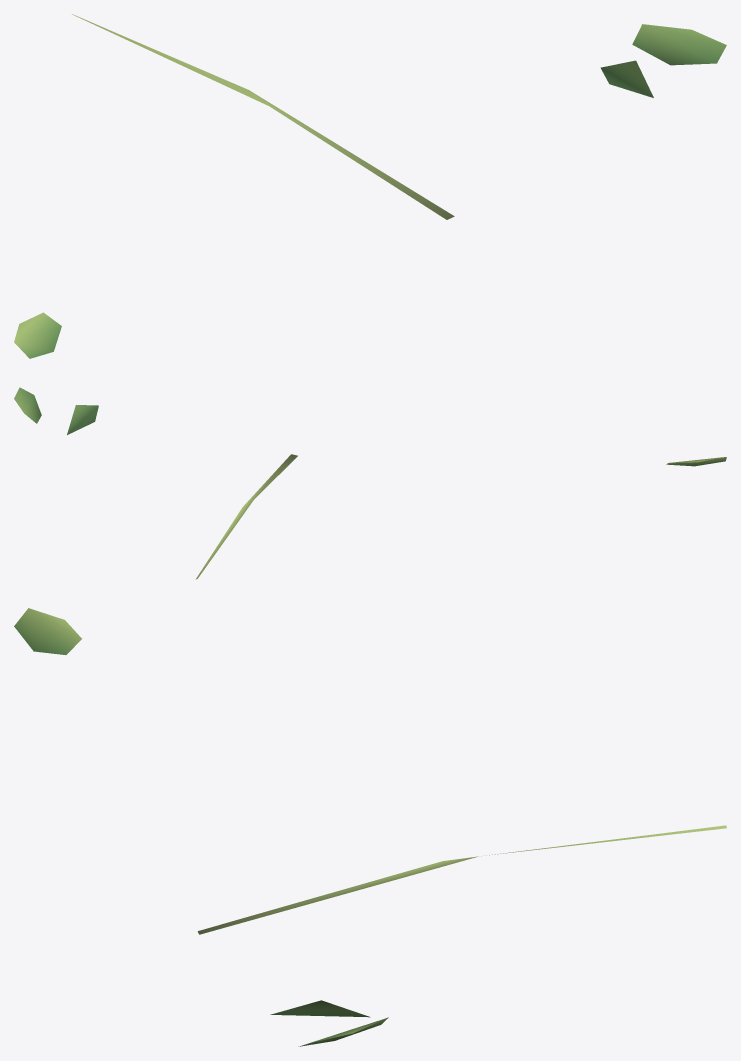
Rendered from GroundIvy_LOD3.glb.
The picture shows the model from 3 angles, top to bottom: view 1: azimuth 30°, elevation 25°; view 2: azimuth 150°, elevation 25°; view 3: azimuth 270°, elevation 25°; orthographic projection. The views are drawn at different scales.
Visible parts, largest first — view 1: GroundIvy_LOD3; view 2: GroundIvy_LOD3; view 3: GroundIvy_LOD3.
Boxes of the visible parts, x1,y1,x2,y2 form: GroundIvy_LOD3: [14, 14, 726, 358]; GroundIvy_LOD3: [14, 387, 726, 579]; GroundIvy_LOD3: [14, 608, 726, 1046].
Size of the model in its own units: 0.3365 by 0.0242 by 0.2387.
